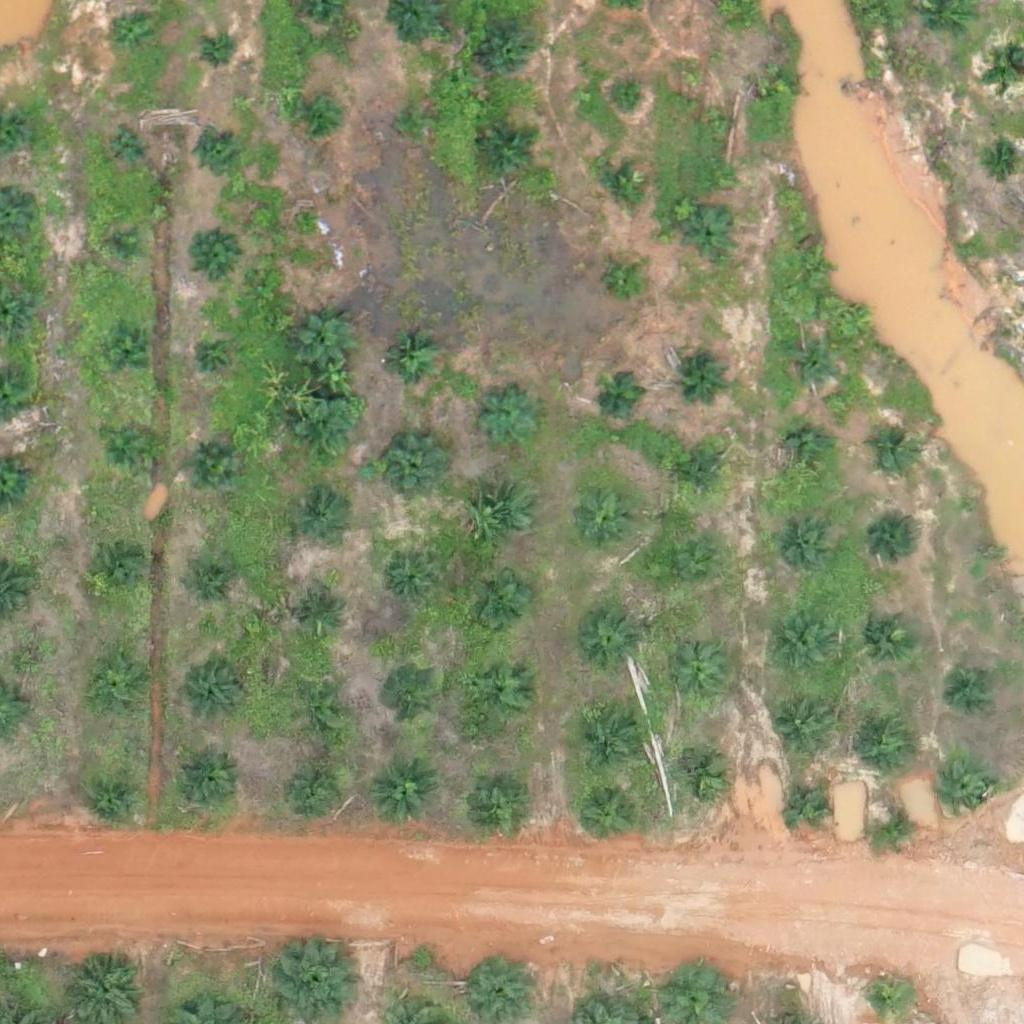Kelapa_Sawit: (656, 541, 719, 604), (771, 517, 834, 580), (379, 334, 442, 397), (383, 434, 446, 497), (370, 761, 433, 824), (769, 614, 832, 677), (179, 744, 242, 807), (90, 651, 153, 714), (80, 762, 143, 825), (466, 659, 529, 722), (464, 766, 527, 829), (380, 666, 443, 729), (576, 783, 639, 846), (856, 710, 919, 773), (770, 695, 833, 758), (293, 310, 356, 373), (86, 541, 149, 603), (467, 573, 529, 636), (578, 488, 640, 551), (477, 386, 539, 449), (580, 705, 642, 768), (292, 679, 354, 742), (577, 609, 639, 672), (666, 647, 728, 710), (671, 745, 733, 808), (856, 605, 918, 668), (295, 399, 357, 462), (473, 486, 535, 549), (287, 761, 349, 823), (183, 666, 245, 728), (485, 24, 535, 75), (484, 127, 534, 178), (783, 780, 833, 831), (869, 801, 919, 852), (190, 229, 240, 280), (595, 159, 645, 210), (190, 567, 240, 617), (292, 499, 342, 549), (300, 592, 350, 642), (383, 555, 433, 605), (186, 439, 236, 489), (872, 516, 922, 566), (679, 347, 729, 397), (597, 372, 647, 422), (104, 419, 154, 469), (786, 342, 836, 392), (685, 211, 735, 261), (782, 427, 832, 477), (868, 426, 918, 476), (940, 767, 990, 817), (950, 662, 1000, 712), (676, 451, 726, 501), (190, 331, 240, 381), (103, 327, 153, 377), (794, 249, 832, 287), (606, 260, 644, 298), (101, 226, 139, 264), (984, 50, 1022, 88), (985, 141, 1023, 179), (698, 101, 736, 139), (200, 33, 238, 71), (300, 97, 338, 135), (762, 63, 799, 101), (113, 10, 150, 48), (396, 103, 433, 141), (197, 129, 234, 167), (105, 127, 142, 165), (608, 82, 645, 119)
